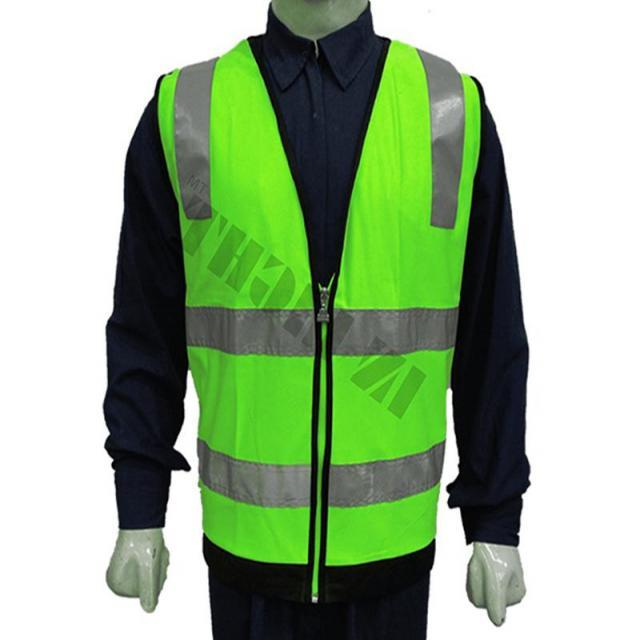reflective_jacket: (149, 16, 493, 586)
